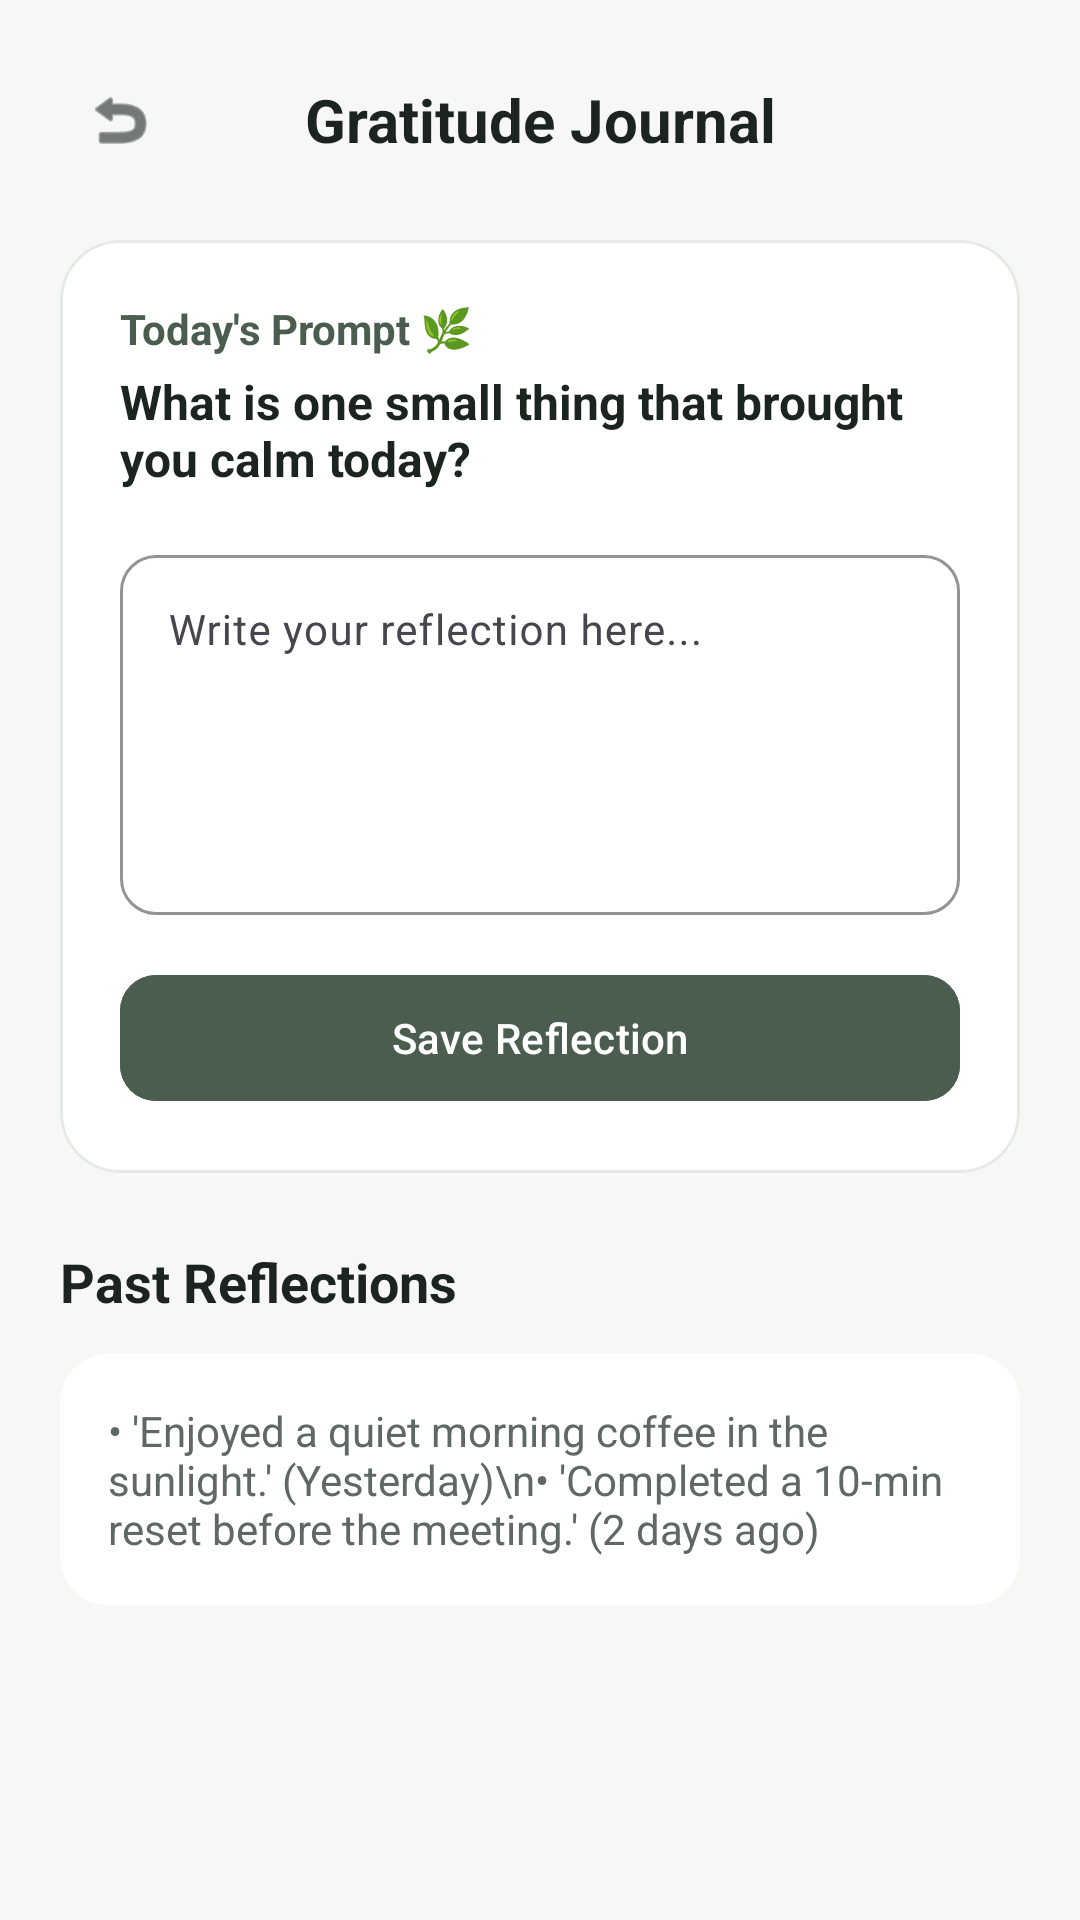

Named icons in this screenshot (1080×1920) and their bounding boxes, detection(x1, y1, x2, y2):
Back: detection(95, 97, 147, 144)
